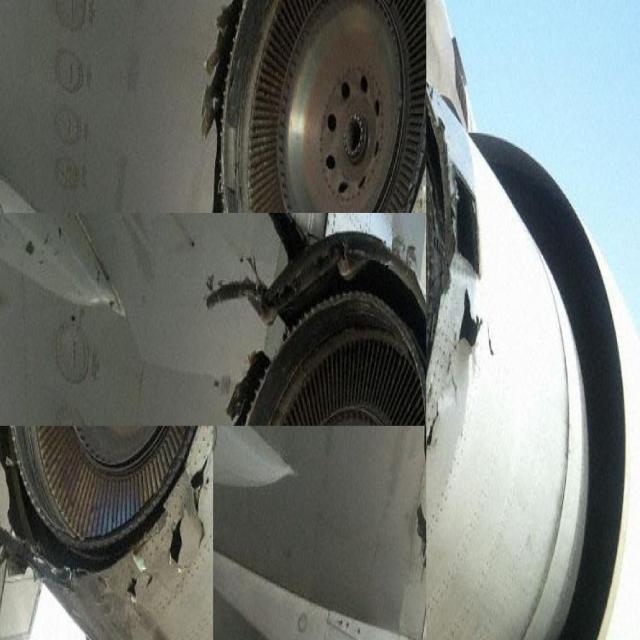crack: (427, 285, 491, 460), (411, 503, 432, 584)
